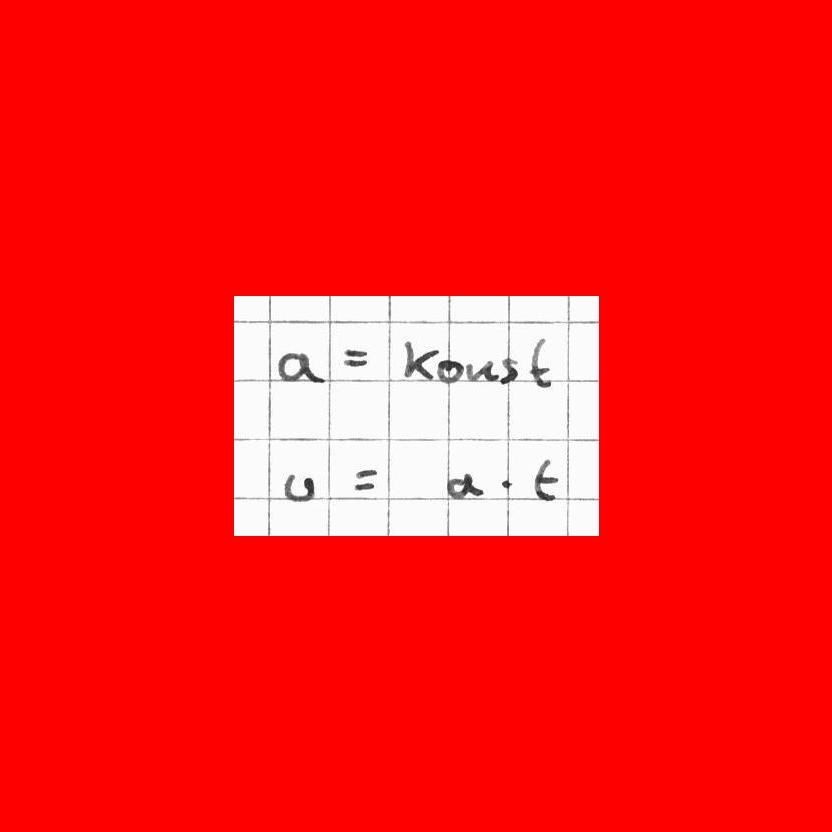Char: (275, 347, 325, 385), (403, 338, 437, 382), (530, 455, 559, 503), (527, 335, 552, 388), (445, 470, 485, 501), (282, 471, 314, 503), (466, 356, 495, 383), (351, 464, 378, 493), (437, 358, 463, 384), (340, 345, 369, 368), (498, 356, 519, 384), (497, 475, 516, 495)
